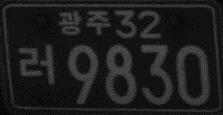0: (176, 42, 208, 110)
2: (137, 7, 164, 42)
3: (138, 43, 175, 106), (114, 8, 136, 38)
8: (103, 44, 136, 104)
9: (67, 43, 99, 105)
광주_O: (57, 9, 111, 36)
러: (15, 43, 56, 87)
